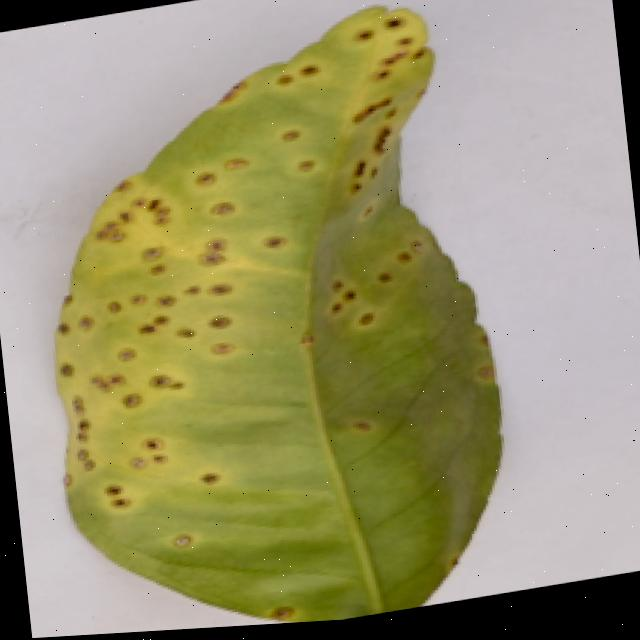canker: (56, 11, 499, 623), (59, 168, 308, 575), (337, 0, 438, 187), (182, 50, 319, 138), (330, 240, 422, 323), (345, 104, 395, 199), (266, 574, 323, 624), (468, 351, 508, 399)
